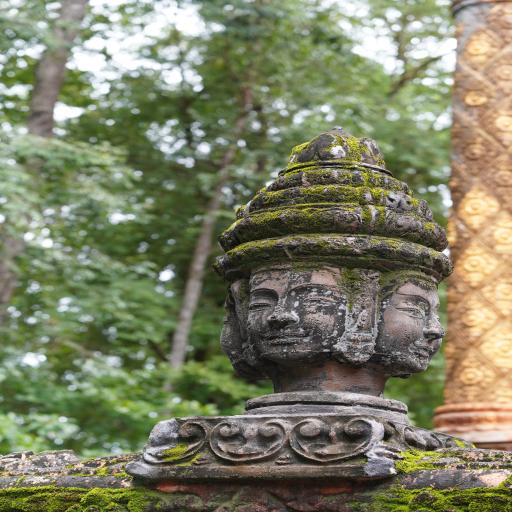la: (284, 408, 389, 464), (200, 417, 295, 465), (139, 414, 207, 462)
than: (133, 124, 478, 480)
